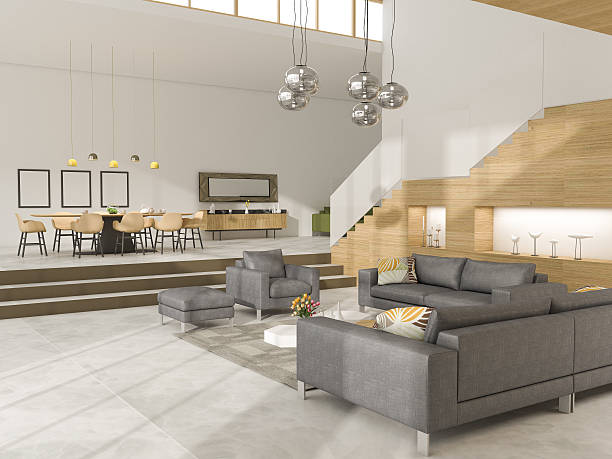chair: (227, 247, 322, 324), (155, 283, 237, 333)
dining table set: (13, 210, 208, 258)
flower vase: (287, 288, 320, 316)
sofa: (293, 287, 612, 457), (355, 252, 550, 319)
wall art: (14, 167, 53, 209), (59, 168, 94, 209), (97, 170, 130, 208)
